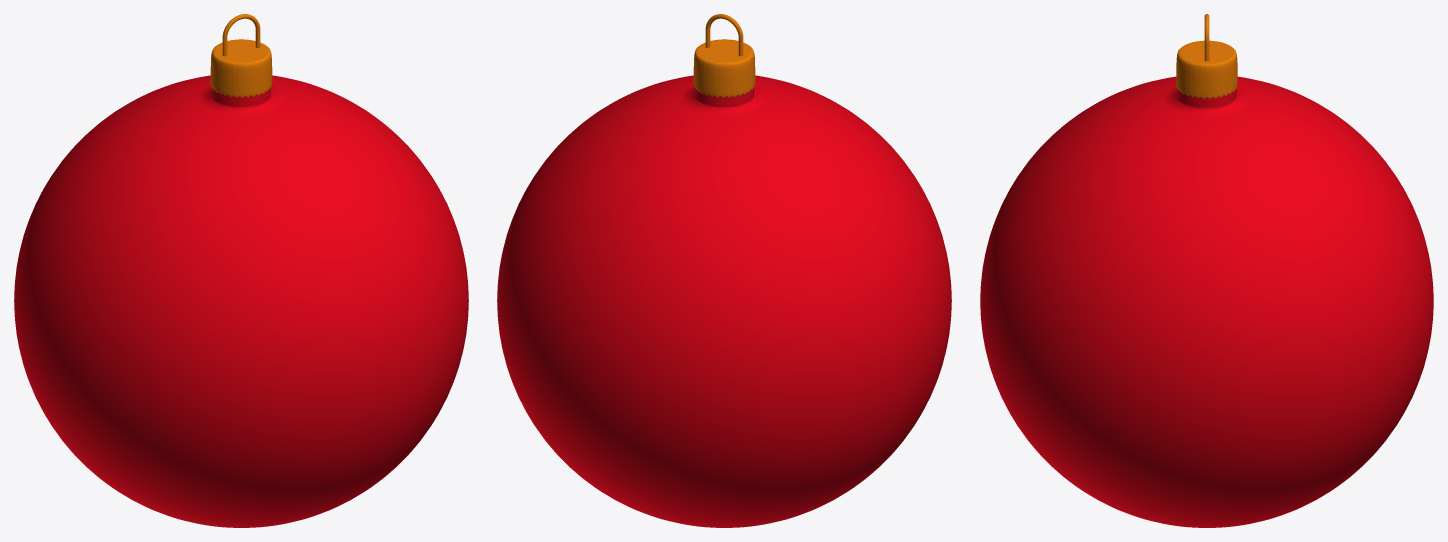
Rendered from ChristmasBall_Red.fbx.
The picture shows the model from 3 angles, left to right: view 1: azimuth 30°, elevation 25°; view 2: azimuth 150°, elevation 25°; view 3: azimuth 270°, elevation 25°; orthographic projection.
Visible parts, largest first — view 1: Red; view 2: Red; view 3: Red.
Boxes of the visible parts, x1=… form: Red: x1=14, y1=14, x2=468, y2=527; Red: x1=497, y1=14, x2=951, y2=527; Red: x1=980, y1=14, x2=1433, y2=527.
Bounding box in the file's own units: 200 × 239 × 200.
